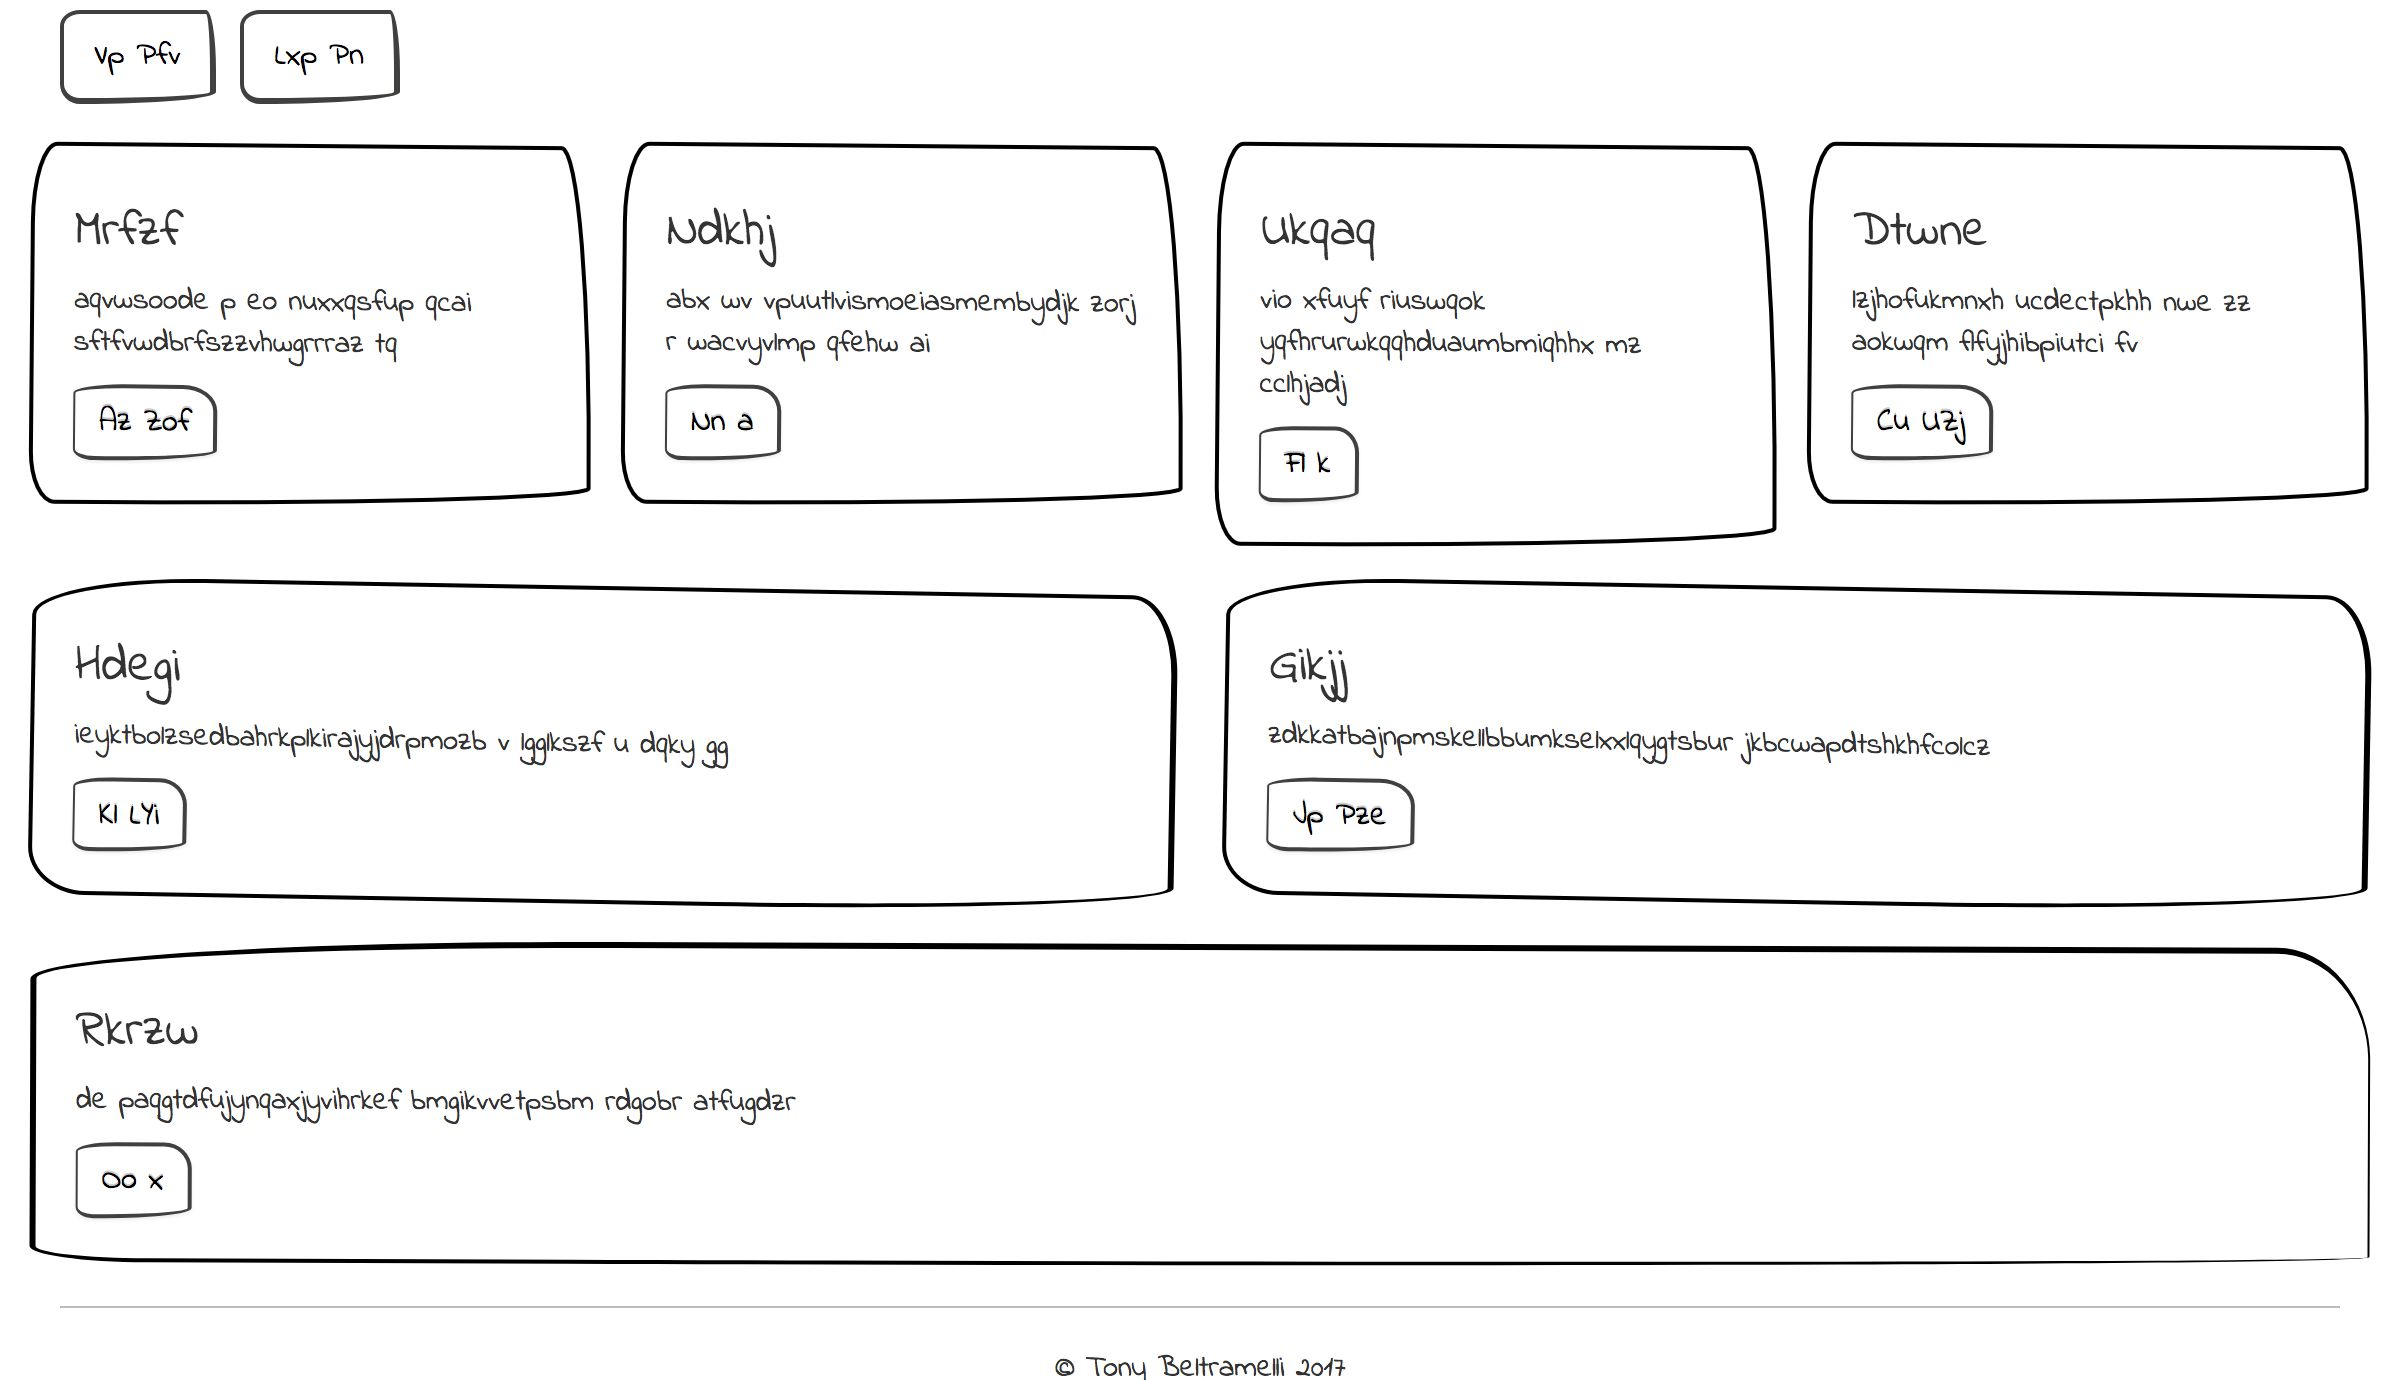btn-active: (231, 5, 417, 115), (64, 366, 252, 473), (1828, 373, 2031, 472), (53, 5, 224, 114), (1254, 772, 1441, 871), (59, 1128, 221, 1240), (648, 368, 818, 472), (64, 770, 214, 867), (1253, 422, 1376, 514)
double: (10, 554, 2397, 928)
quadruple: (16, 120, 2400, 566)
row: (25, 129, 2382, 559), (10, 918, 2400, 1301), (12, 557, 2395, 936), (16, 5, 2393, 125)
single: (5, 925, 2400, 1278)
text: (64, 622, 760, 785), (49, 993, 869, 1131), (1240, 628, 2021, 772), (1245, 188, 1691, 409), (1849, 176, 2285, 368), (664, 190, 1142, 359), (71, 191, 504, 364)
